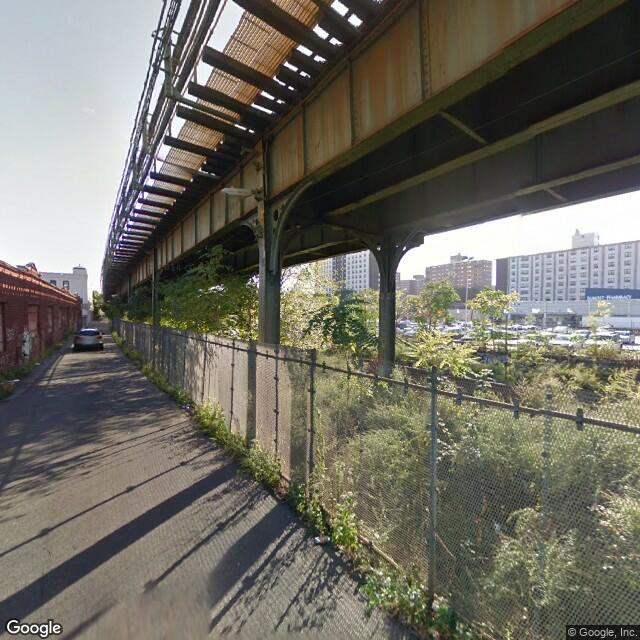litter: (311, 531, 334, 545), (183, 401, 192, 408), (13, 378, 20, 385)
